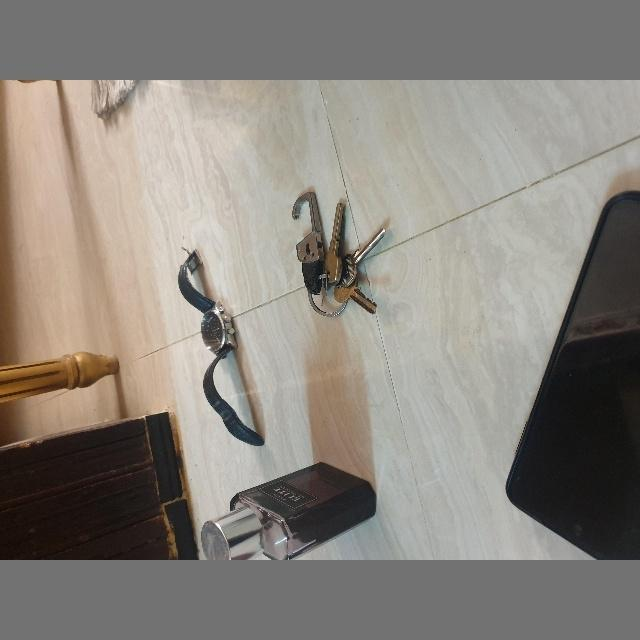Keys: (290, 192, 388, 316)
